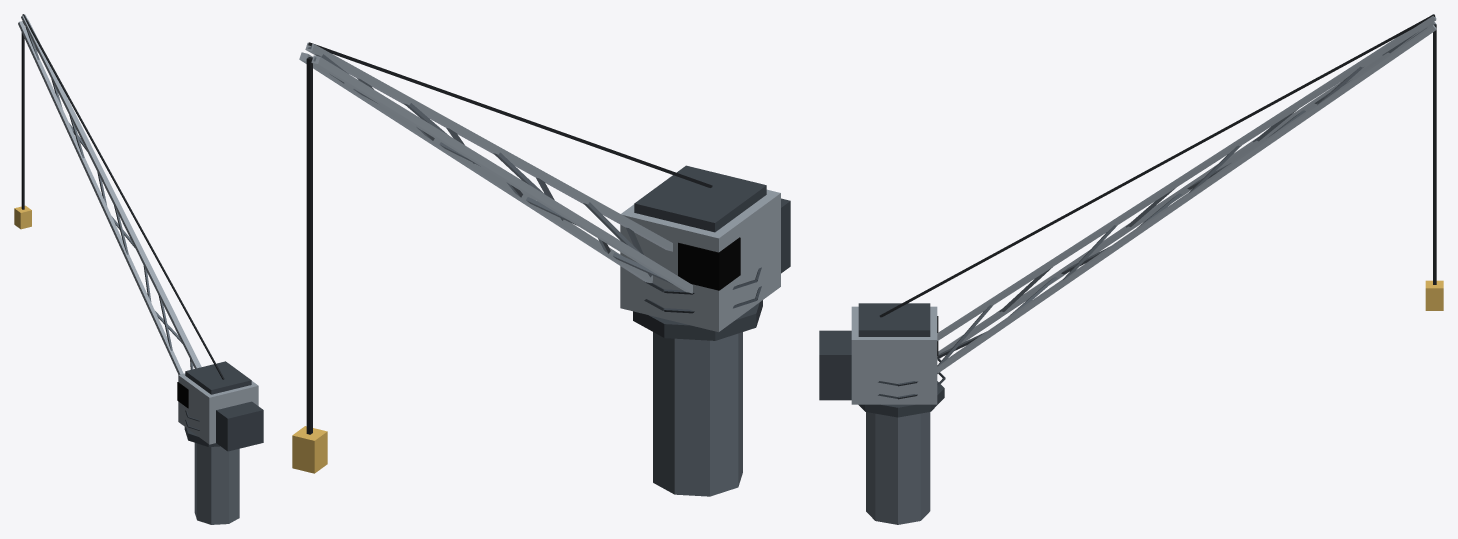
Rendered from env_carrier_ship_crane.fbx.
3 renders of one model, left to right at view 1: azimuth 30°, elevation 25°; view 2: azimuth 150°, elevation 25°; view 3: azimuth 270°, elevation 25°, orthographic. The views are drawn at different scales.
Visible parts, largest first — view 1: env_carrier_ship_crane; view 2: env_carrier_ship_crane; view 3: env_carrier_ship_crane.
Part boxes in pixels (x1,y1,x2,y2): env_carrier_ship_crane: (14,14,263,524); env_carrier_ship_crane: (292,42,790,496); env_carrier_ship_crane: (819,14,1443,524).
Bounding box in the file's own units: 532 × 3065 × 3490.
